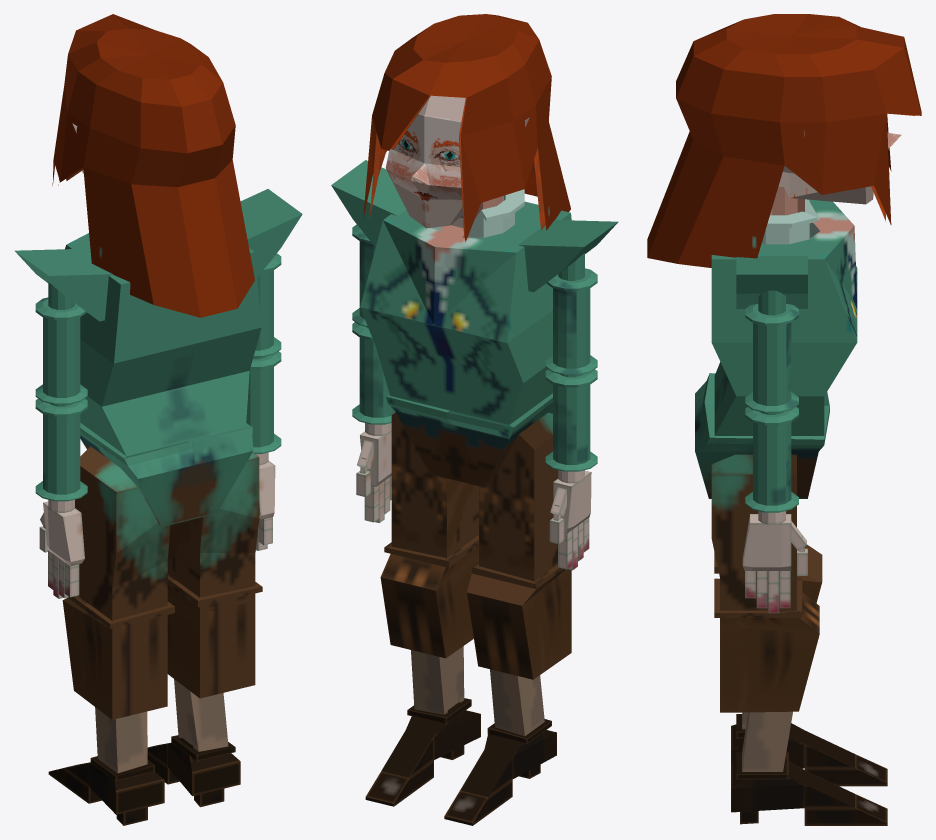
File: Lady_Gezets_tutor.fbx
The picture shows the model from 3 angles, left to right: view 1: azimuth 30°, elevation 25°; view 2: azimuth 150°, elevation 25°; view 3: azimuth 270°, elevation 25°; orthographic projection. The views are drawn at different scales.
Visible parts, largest first — view 1: hair_outline, body, cuboid_30, cuboid_63, cylinder, cylinder_2, cuboid_32, shoulder, cuboid_65, cuboid_31, cuboid_64, shoulder_2 (+4 smaller); view 2: body, hair_outline, cuboid_30, cuboid_63, head, cuboid_65, cuboid_32, cylinder, cylinder_2, shoulder, cuboid_64, cuboid_31 (+7 smaller); view 3: hair_outline, body, cuboid_63, cuboid_65, cylinder_5, cylinder_7, cuboid_32, cuboid_64, shoulder_2, cuboid_33, neck_armour, head (+3 smaller).
Boxes of the visible parts, box(x1,y1,x2,y2) form: hair_outline: box(52, 14, 254, 317); body: box(65, 233, 261, 526); cuboid_30: box(62, 446, 174, 719); cuboid_63: box(167, 452, 262, 698); cylinder: box(35, 297, 87, 404); cylinder_2: box(35, 398, 87, 501); cuboid_32: box(48, 762, 164, 825); shoulder: box(14, 249, 112, 321); cuboid_65: box(147, 738, 240, 807); cuboid_31: box(90, 707, 154, 781); cuboid_64: box(171, 679, 235, 761); shoulder_2: box(240, 189, 302, 277); body: box(360, 201, 571, 487); hair_outline: box(363, 14, 570, 242); cuboid_30: box(467, 412, 571, 679); cuboid_63: box(380, 412, 478, 658); head: box(385, 95, 529, 228); cuboid_65: box(365, 702, 480, 806); cuboid_32: box(444, 730, 556, 825); cylinder: box(545, 268, 597, 375); cylinder_2: box(545, 369, 597, 471); shoulder: box(518, 220, 618, 292); cuboid_64: box(407, 646, 471, 724); cuboid_31: box(487, 669, 551, 744); hair_outline: box(647, 14, 921, 267); body: box(695, 199, 857, 498); cuboid_63: box(711, 454, 819, 712); cuboid_65: box(731, 760, 887, 825); cylinder_5: box(745, 303, 798, 412); cylinder_7: box(745, 407, 798, 512); cuboid_32: box(731, 723, 887, 786); cuboid_64: box(736, 711, 792, 779); shoulder_2: box(736, 256, 807, 308); cuboid_33: box(742, 514, 791, 570); neck_armour: box(762, 199, 819, 244); head: box(780, 130, 901, 204).
Size of the model in its own units: 172 by 481 by 156.
8 materials, 8 textured.
